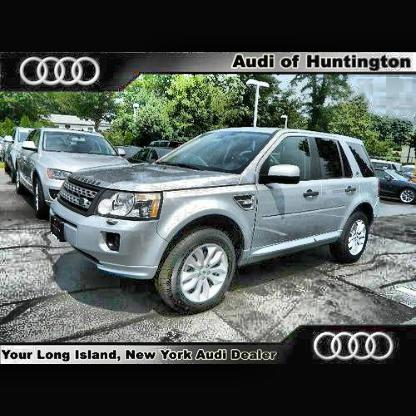Land Rover LR2 SUV 2012: (46, 125, 385, 315)
